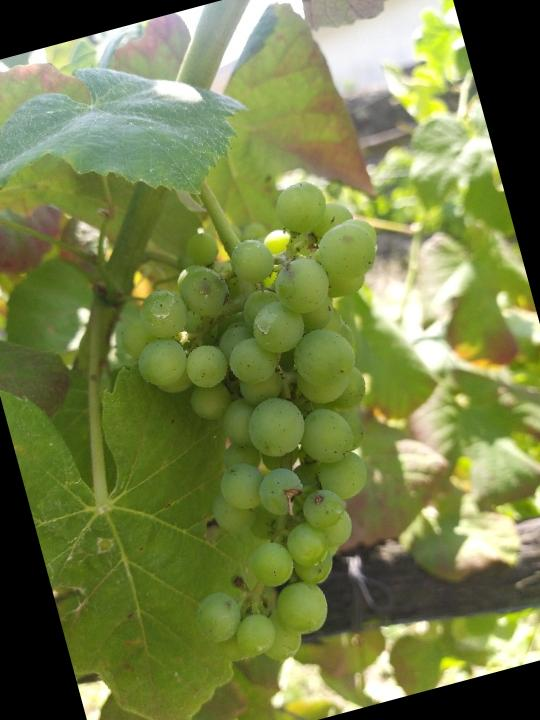grape: (84, 163, 478, 686)
